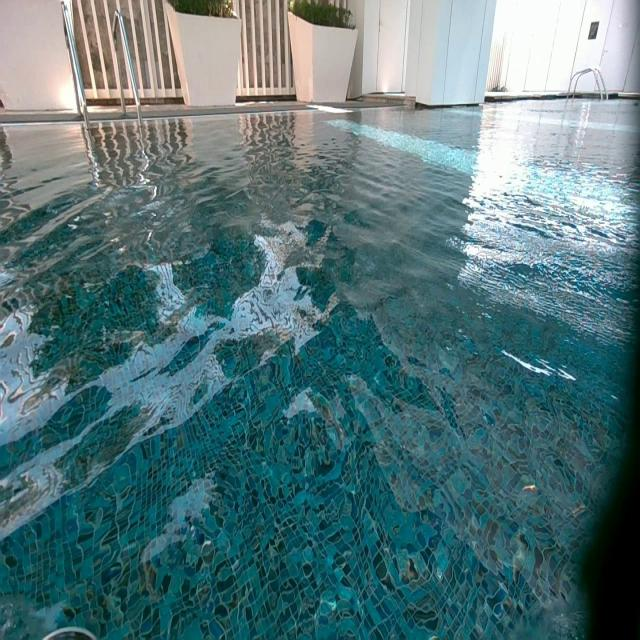Cans: (634, 102, 639, 110)
